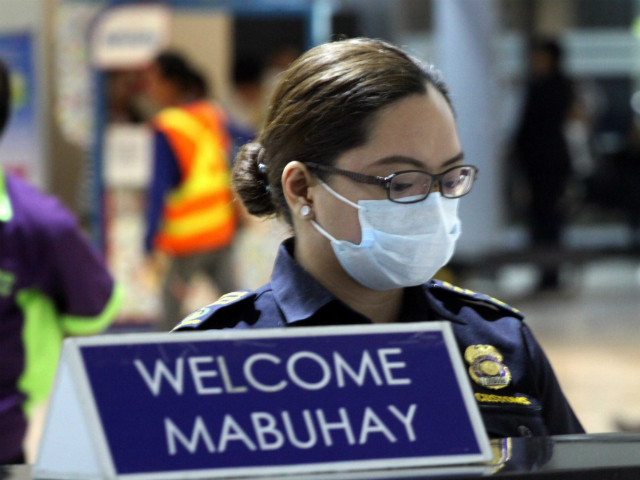mask: (357, 203, 467, 294)
